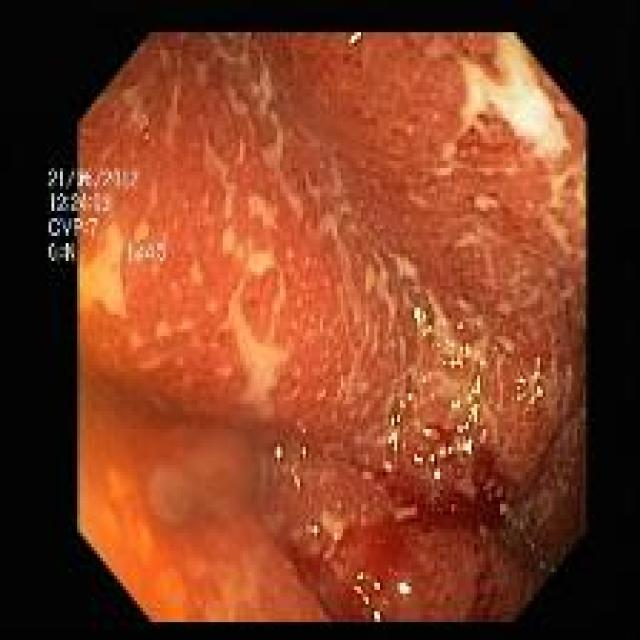ulcerative-colitis: (80, 33, 584, 621)
